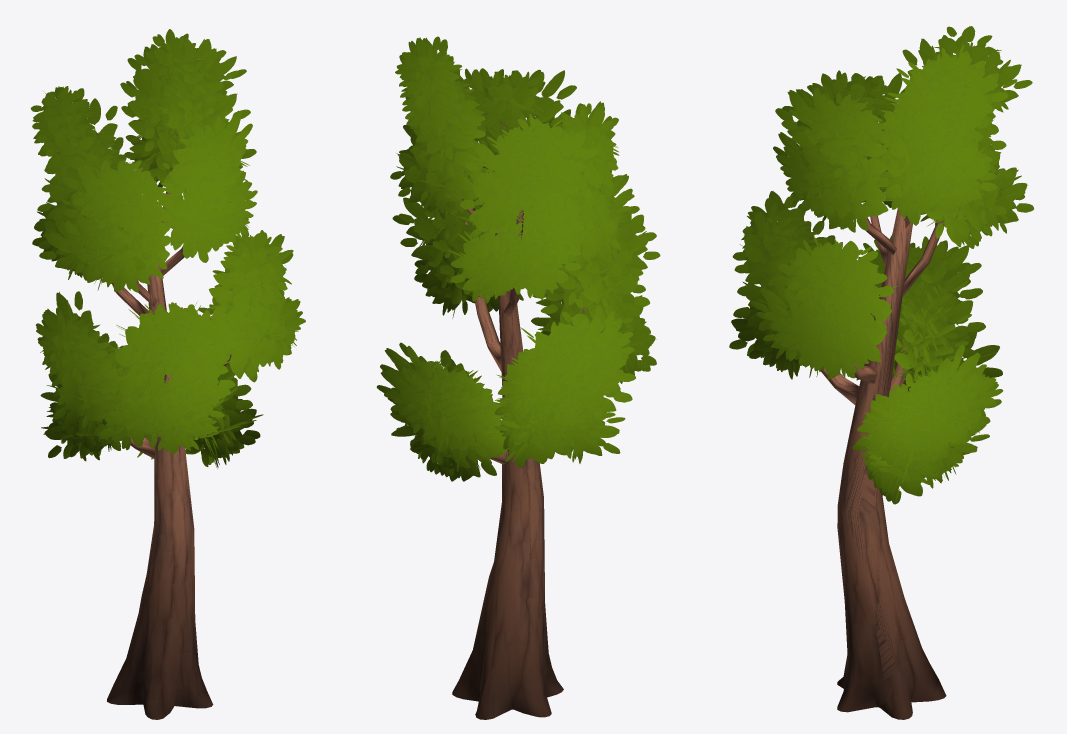
Rendered from CommonTree_3.gltf.
3 views of the same model, side by side, from view 1: azimuth 30°, elevation 25°; view 2: azimuth 150°, elevation 25°; view 3: azimuth 270°, elevation 25° (orthographic). The views are drawn at different scales.
Visible parts, largest first — view 1: CommonTree_3; view 2: CommonTree_3; view 3: CommonTree_3.
Boxes of the visible parts, bbox=[...] form: CommonTree_3: bbox=[30, 29, 305, 719]; CommonTree_3: bbox=[376, 36, 660, 719]; CommonTree_3: bbox=[729, 26, 1033, 719].
Bounding box in the file's own units: 4.06 × 9.43 × 4.24.
2 materials, 2 textured.
